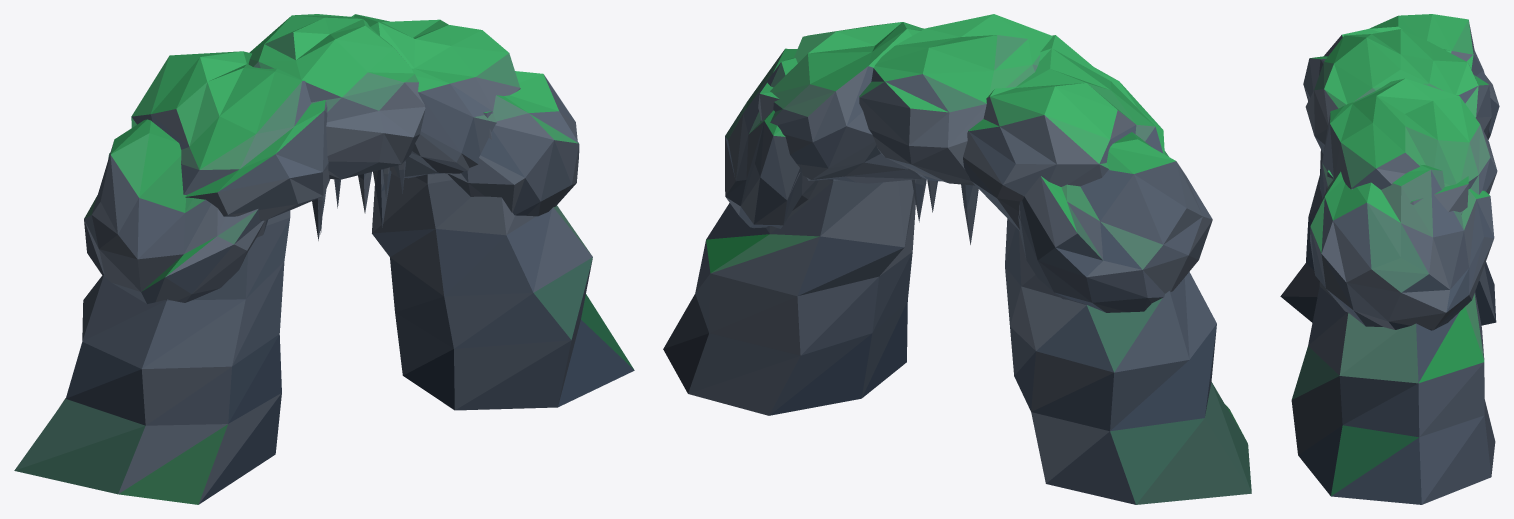
File: batu_arch_granite_375007.glb
3 views of the same model, side by side, from view 1: azimuth 30°, elevation 25°; view 2: azimuth 150°, elevation 25°; view 3: azimuth 270°, elevation 25° (orthographic). The views are drawn at different scales.
Visible parts, largest first — view 1: Lengkungan_Gua_Batu; view 2: Lengkungan_Gua_Batu; view 3: Lengkungan_Gua_Batu.
Boxes of the visible parts, <box> form: Lengkungan_Gua_Batu: <box>14,14,634,504</box>; Lengkungan_Gua_Batu: <box>663,14,1251,504</box>; Lengkungan_Gua_Batu: <box>1280,14,1499,504</box>.
Bounding box in the file's own units: 11.49 × 7.18 × 4.21.
